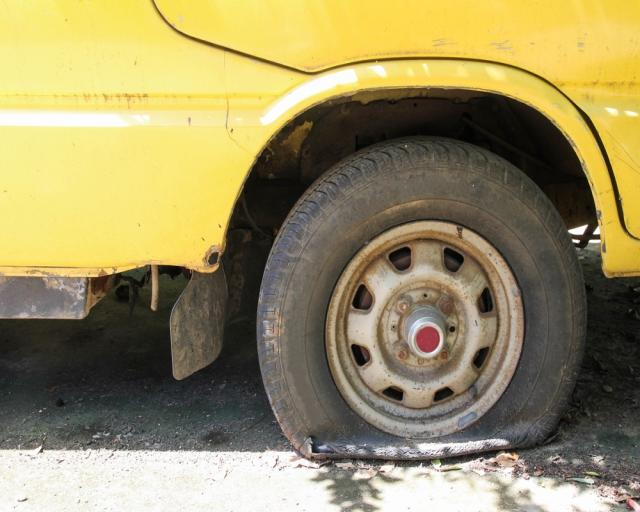tire flat: (257, 138, 587, 462)
